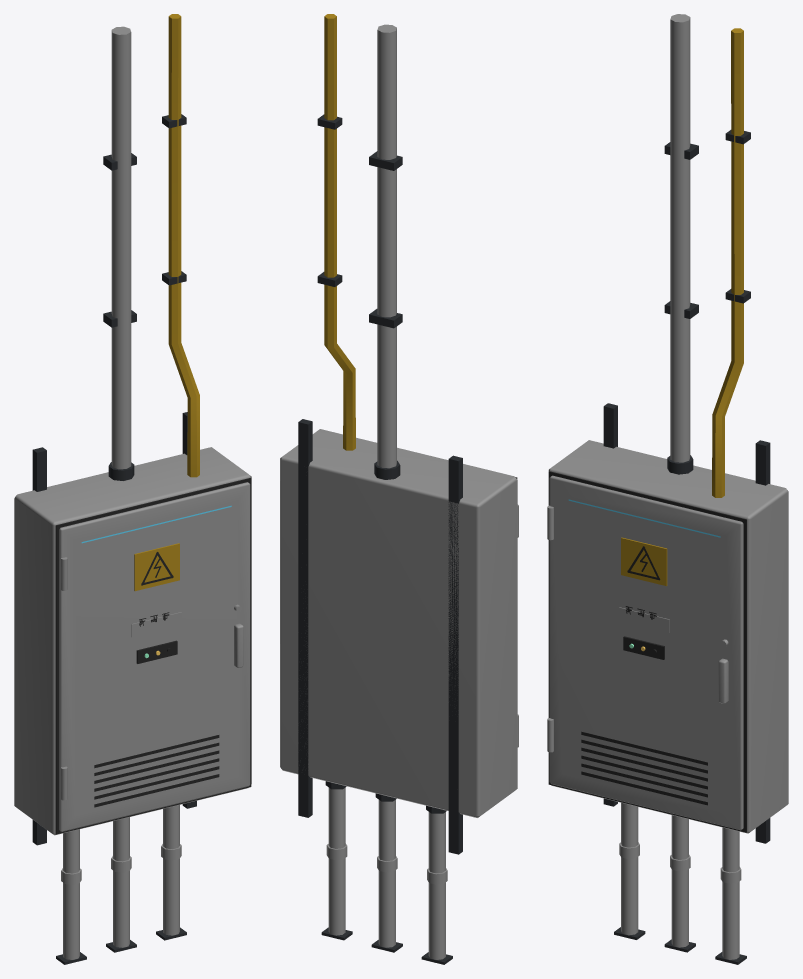
File: Junction_Box.fbx
3 views of the same model, side by side, from view 1: azimuth 30°, elevation 25°; view 2: azimuth 150°, elevation 25°; view 3: azimuth 330°, elevation 25° (orthographic).
Visible parts, largest first — view 1: Junction_Box_LOD0; view 2: Junction_Box_LOD0; view 3: Junction_Box_LOD0.
Part boxes in pixels (<box>): Junction_Box_LOD0: <box>14,14,251,964</box>; Junction_Box_LOD0: <box>280,14,518,964</box>; Junction_Box_LOD0: <box>547,14,788,964</box>.
Size of what is drawn, in the model's own units: 0.8 by 3.5 by 0.335.
